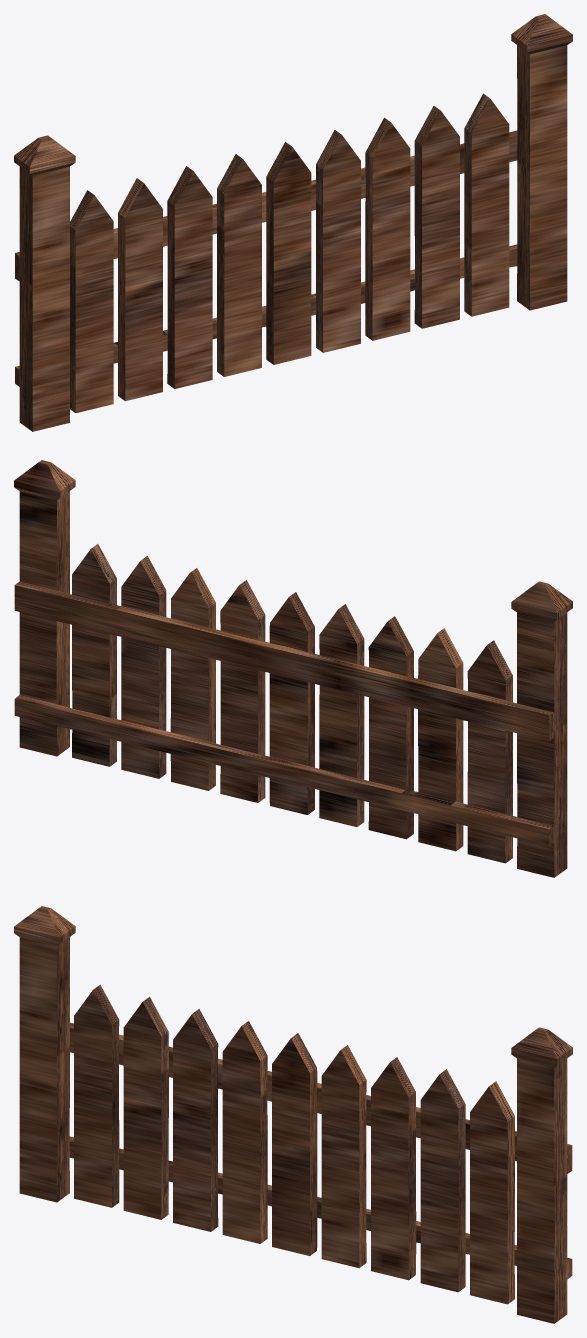
Rendered from Reja_V001_Finish.fbx.
3 renders of one model, top to bottom at view 1: azimuth 30°, elevation 25°; view 2: azimuth 150°, elevation 25°; view 3: azimuth 330°, elevation 25°, orthographic.
Parts seen in each view (by area): view 1: Cube.012; view 2: Cube.012; view 3: Cube.012.
Part boxes in pixels (bbox=[...]): Cube.012: bbox=[14, 14, 572, 431]; Cube.012: bbox=[14, 460, 572, 877]; Cube.012: bbox=[14, 906, 572, 1323].
Size of the model in its own units: 466 by 234 by 28.66.
